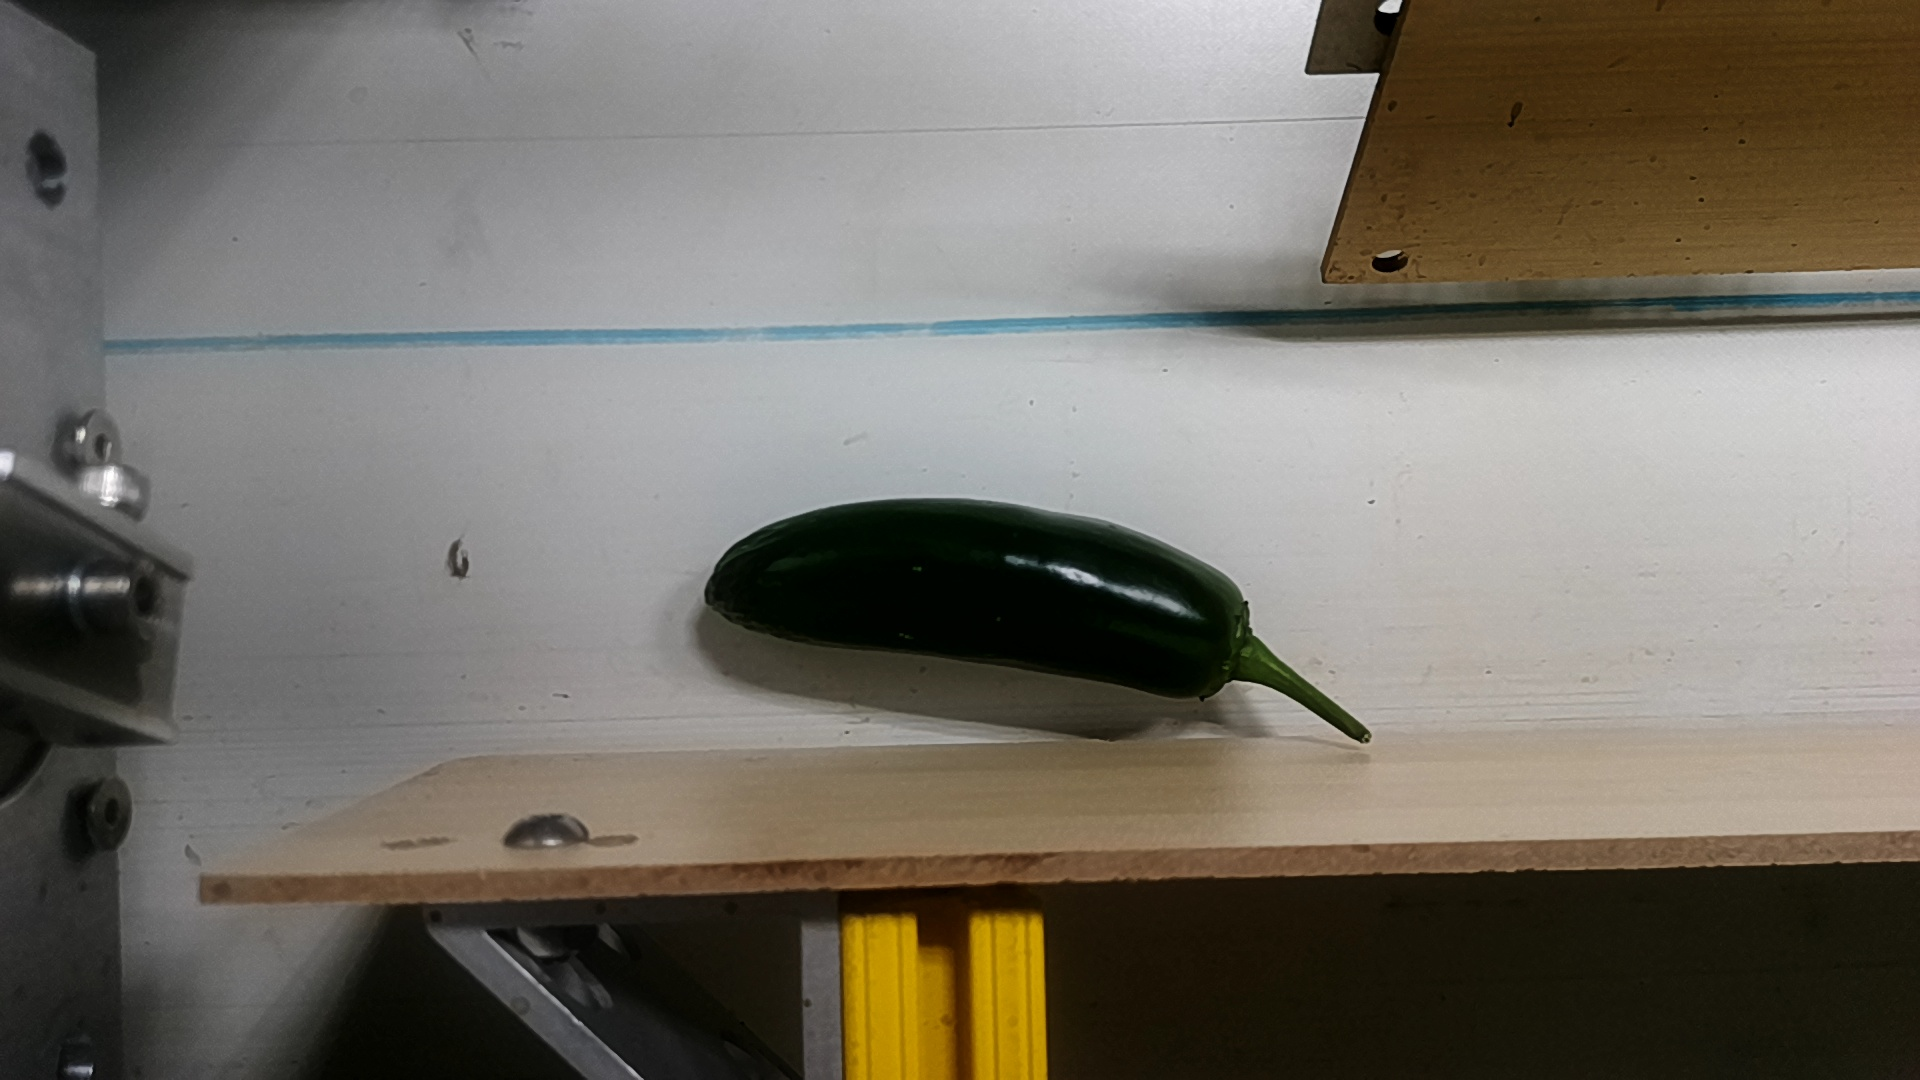Cut Point: (1183, 560, 1278, 708)
